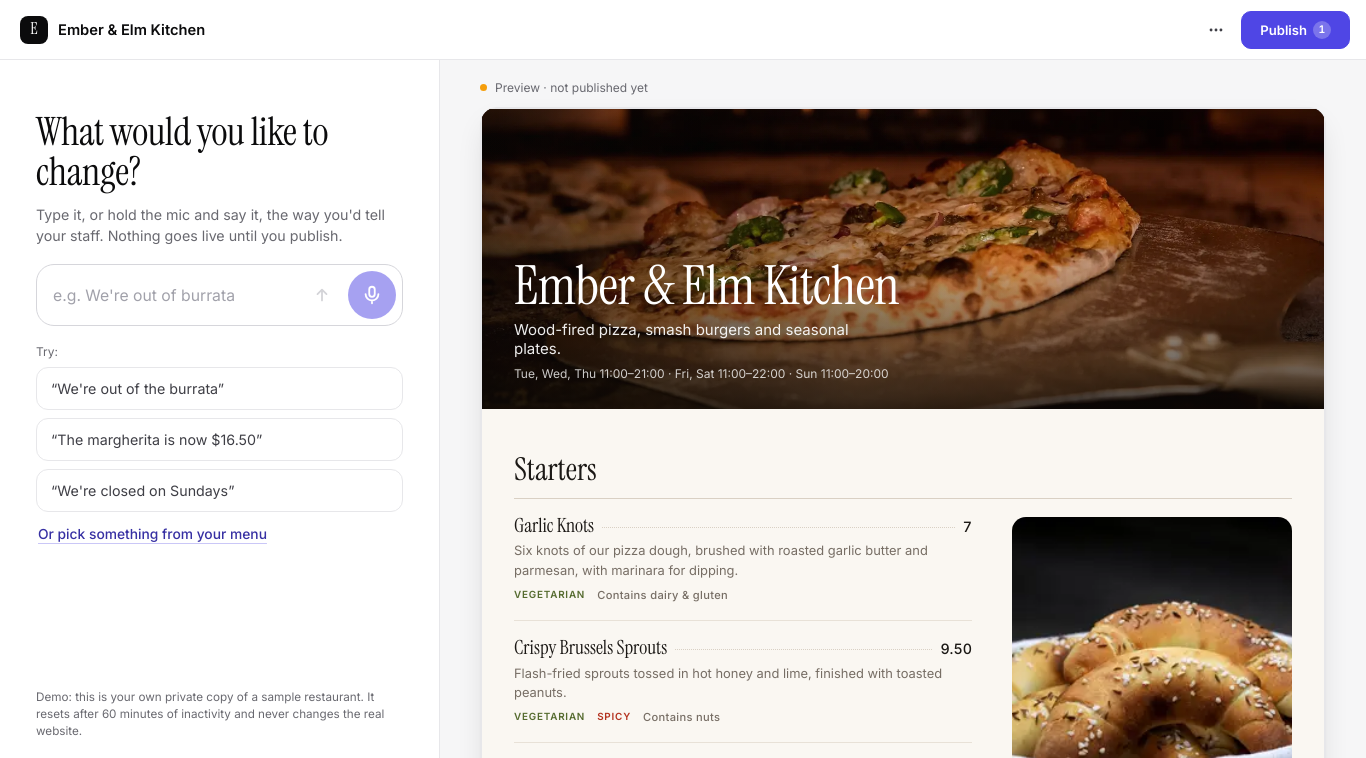
Test: owner-first editor › history and settings open from ⋯ in owner words, with undo
The width and height of the screenshot is (1366, 758).
Click the button named "More": (1216, 30) [1197,10,1235,48]
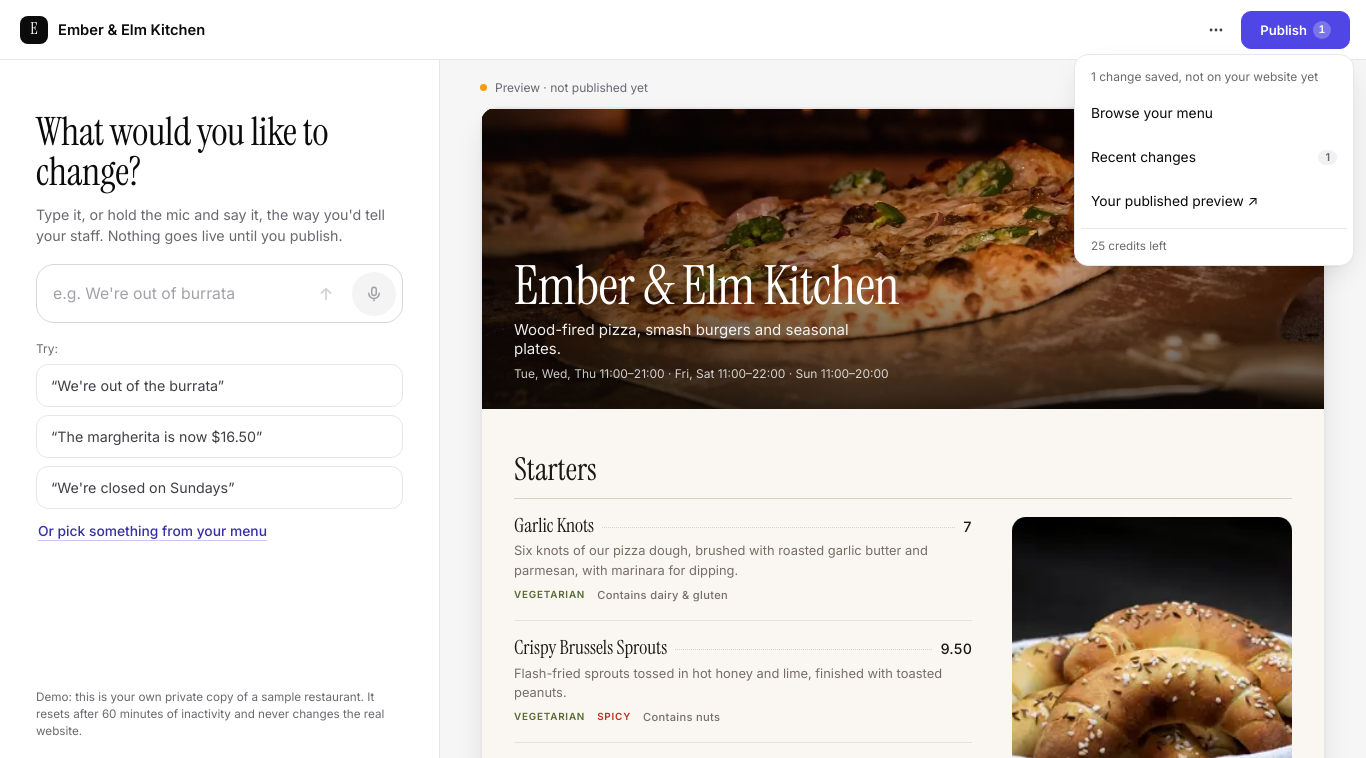
Now the text "1 change saved, not on your website yet" is shown, box [1091,69,1318,84]
Click the menu item "Recent changes 1": (1143, 157) [1081,136,1347,178]
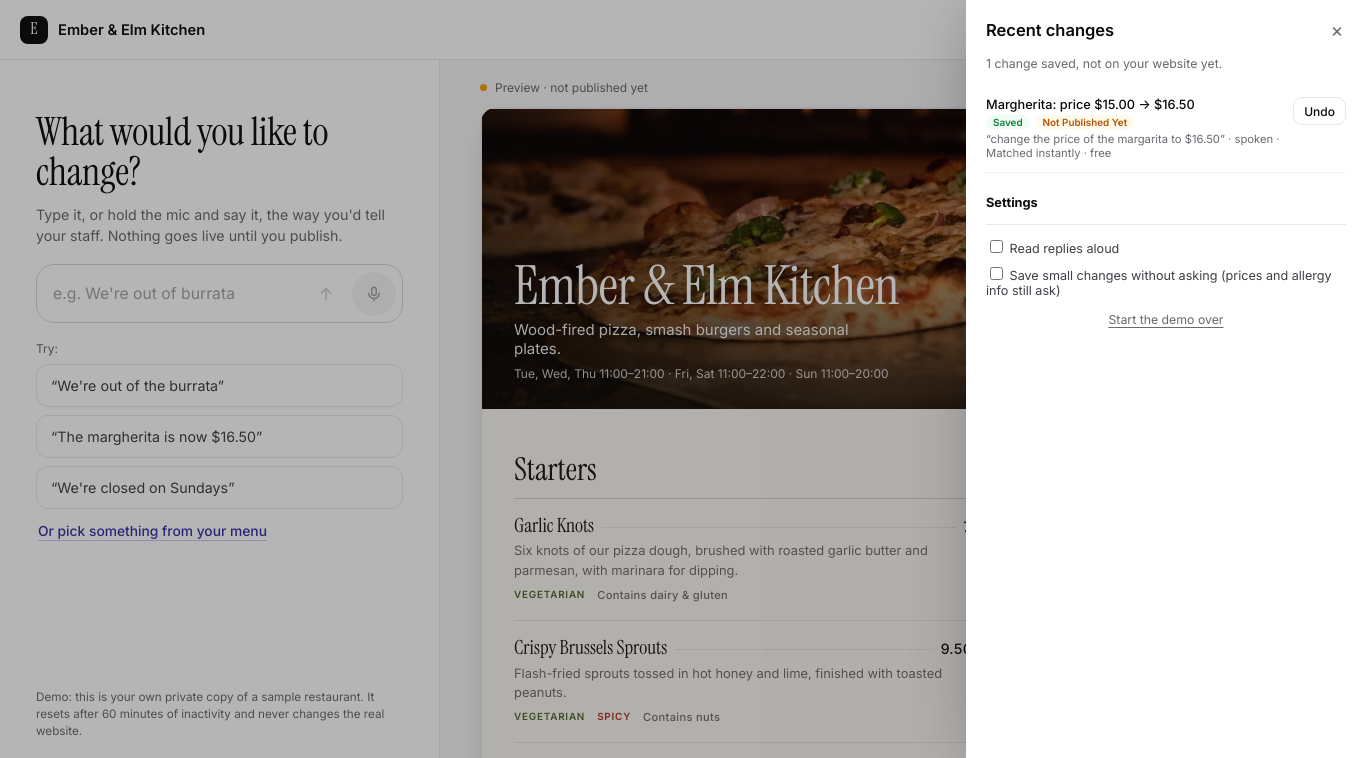
Now the text "Saved" is shown, box [986,115,1030,129]
Now the text "Not published yet" is shown, box [1036,115,1134,129]
Now the button "Undo" is shown, box [1293,97,1346,125]
